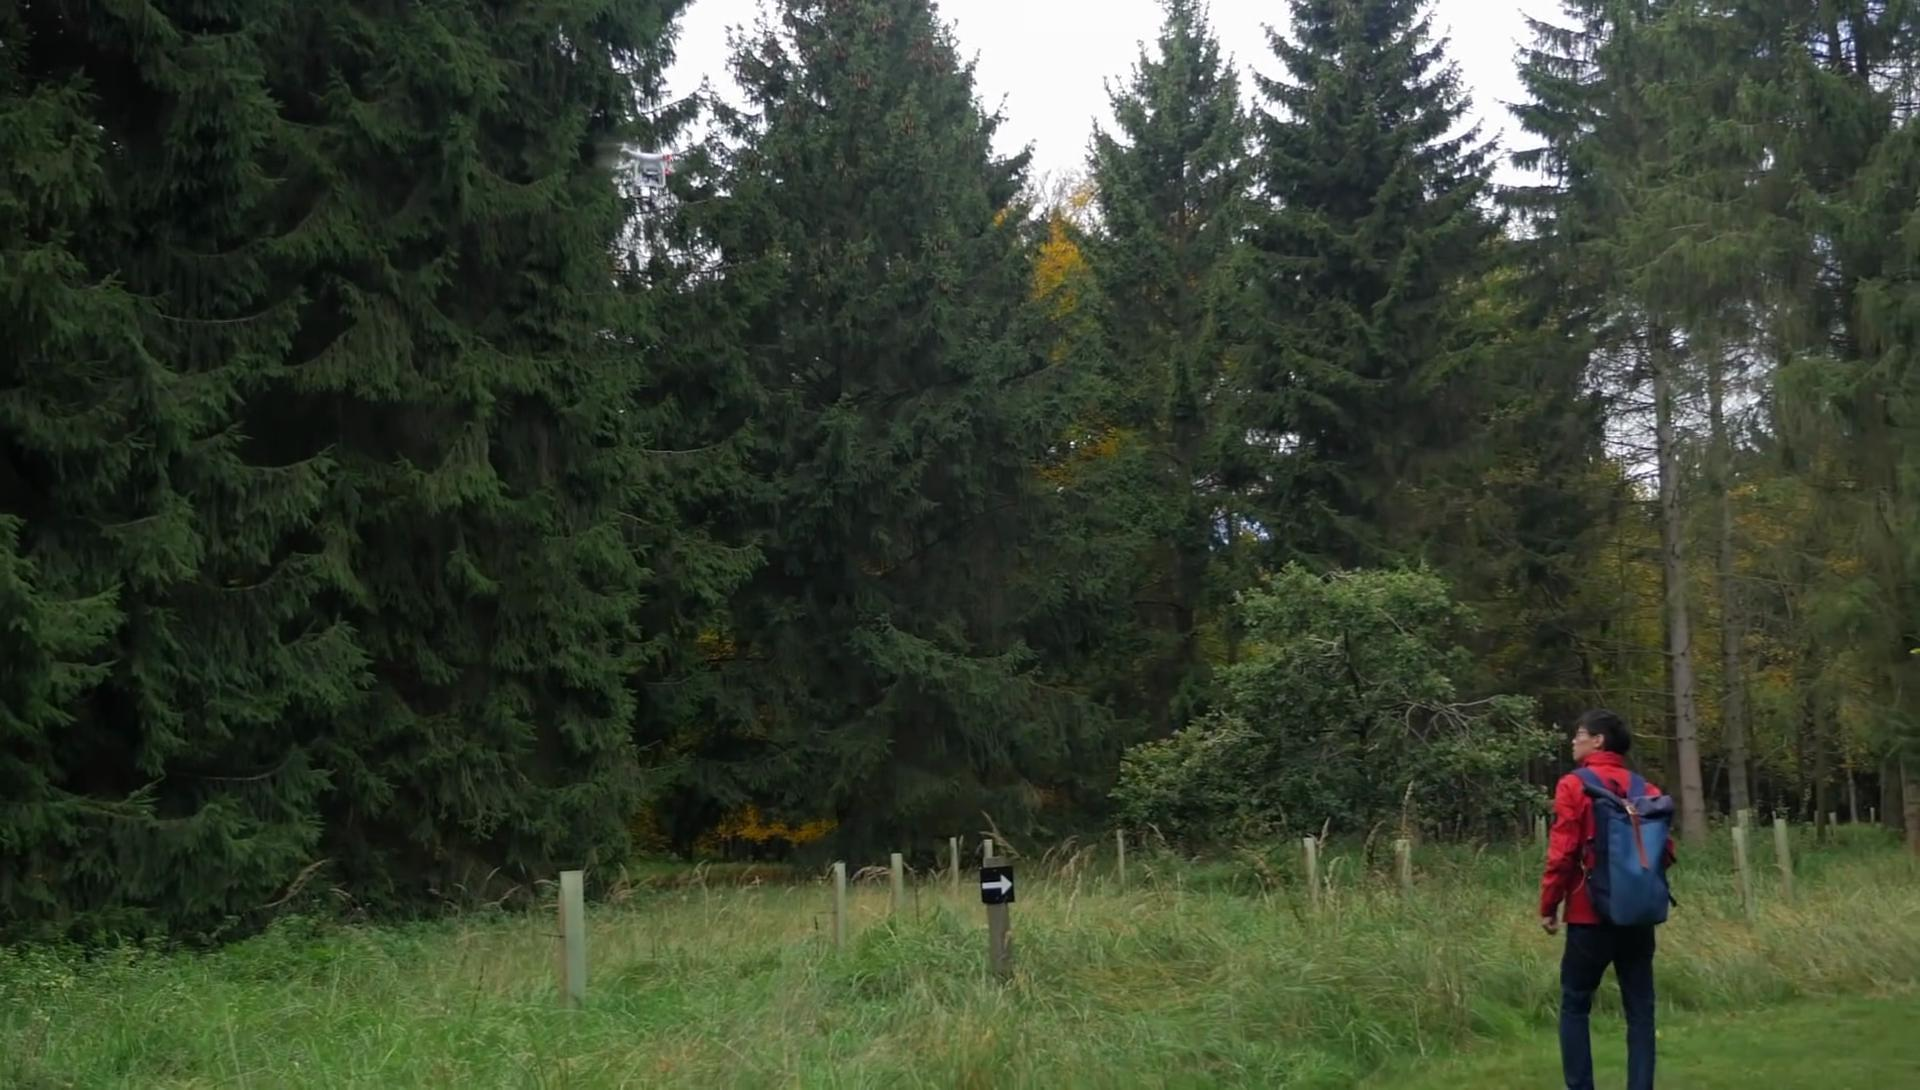drone: (601, 138, 678, 190)
